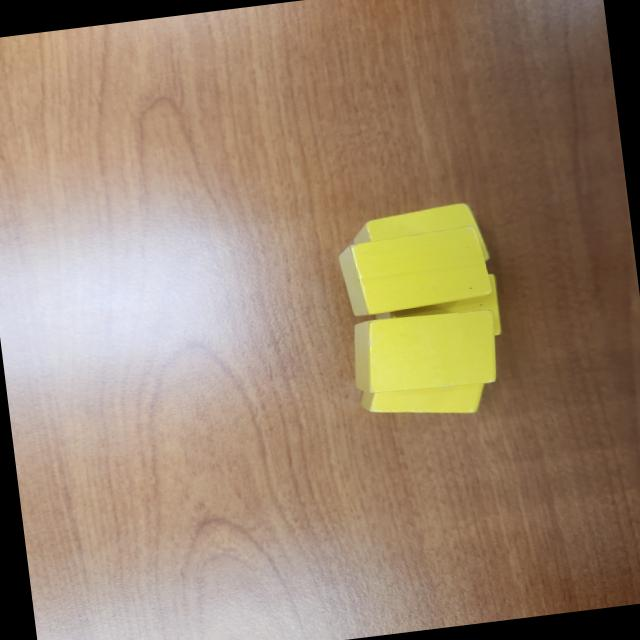yellow: (335, 223, 495, 319), (346, 306, 499, 400), (347, 198, 494, 281), (369, 271, 505, 350), (357, 375, 490, 428)
